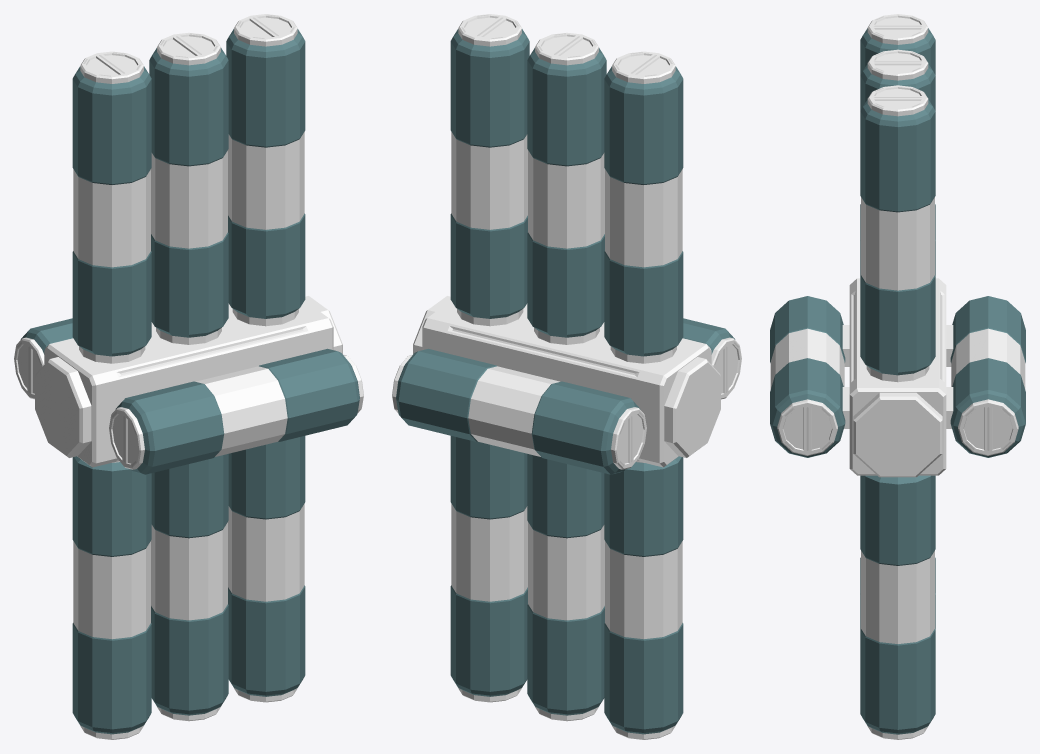
Rendered from ss_cargo1.glb.
The picture shows the model from 3 angles, left to right: view 1: azimuth 30°, elevation 25°; view 2: azimuth 150°, elevation 25°; view 3: azimuth 270°, elevation 25°; orthographic projection. The views are drawn at different scales.
Parts seen in each view (by area): view 1: Cylinder.000; view 2: Cylinder.000; view 3: Cylinder.000.
Boxes of the visible parts, x1,y1,x2,y2 form: Cylinder.000: (14, 14, 363, 739); Cylinder.000: (392, 14, 741, 739); Cylinder.000: (770, 14, 1025, 739).
Size of the model in its own units: 6 by 14.42 by 5.31.
